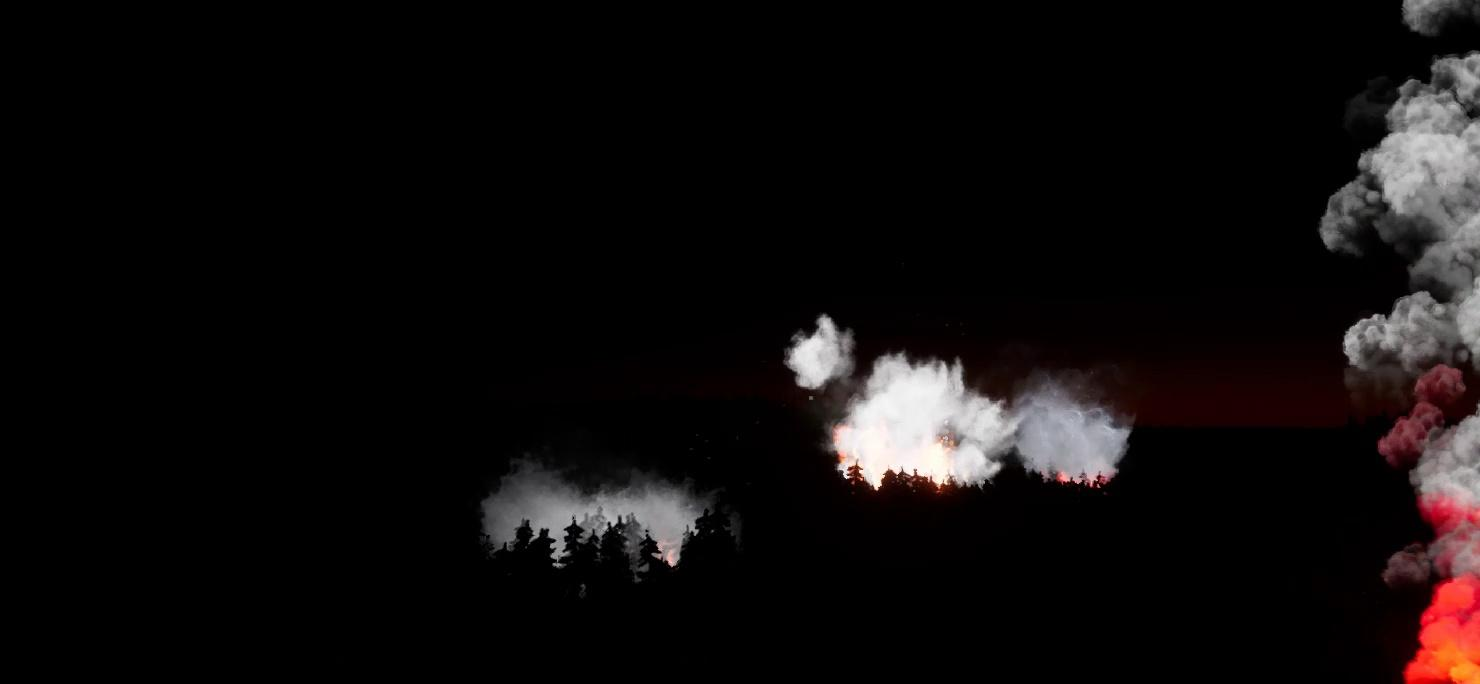fire: (1401, 575, 1479, 683)
smoke: (1312, 6, 1479, 683), (783, 311, 1137, 496), (481, 458, 712, 570)
